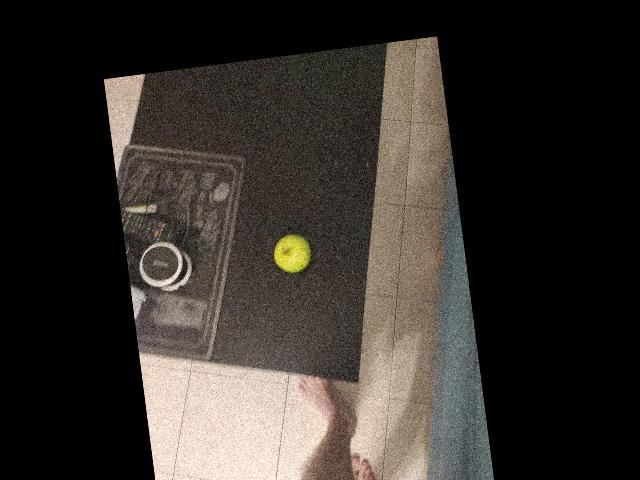apple: (211, 197, 300, 256)
